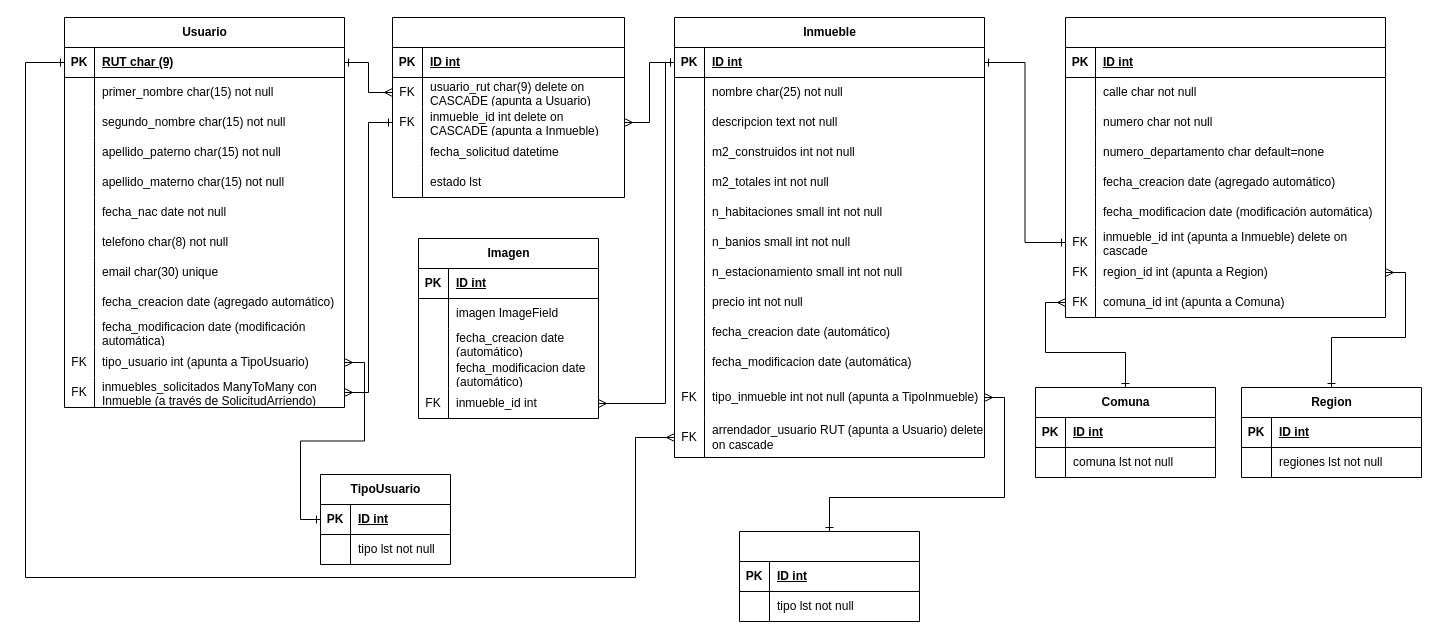
This 1439x639 diagram has some shape labels left out. The shapes that lost their labels are listed below. From the top down, each one's box as (x1, y1, x2, y2) in pixels, then its label:
(392, 16, 624, 198): SolicitudArriendo
(1064, 16, 1386, 318): Direccion
(738, 530, 920, 622): TipoInmueble
